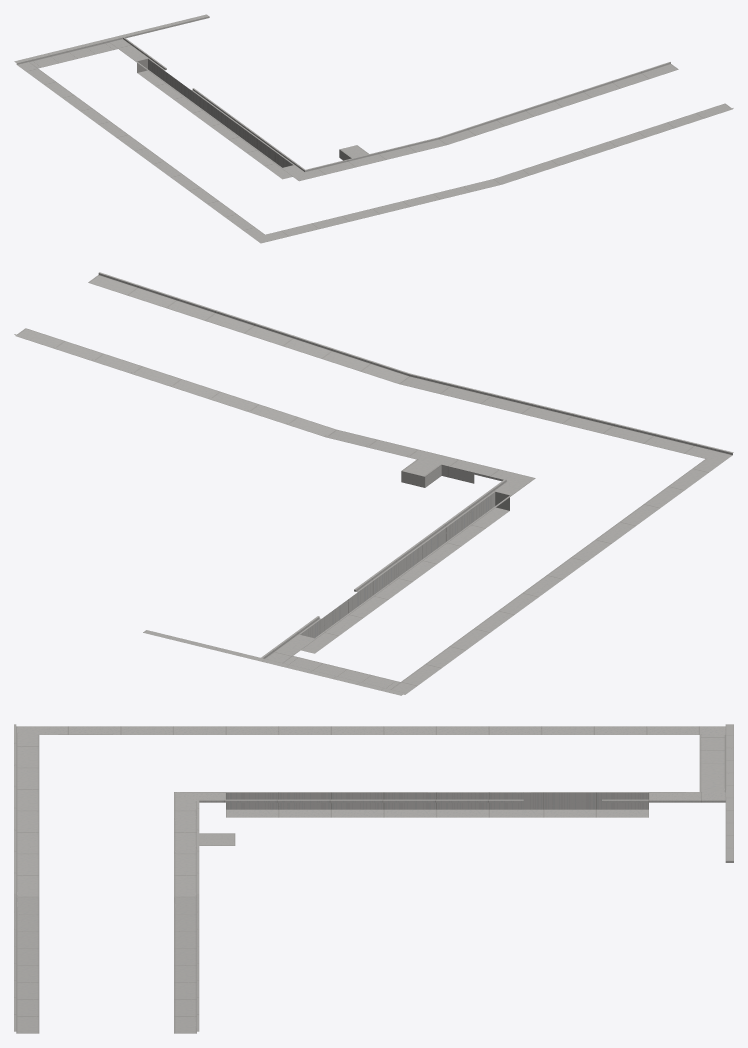
Rendered from kd_stage_135ded_1_7_bounded.glb.
The picture shows the model from 3 angles, top to bottom: view 1: azimuth 30°, elevation 25°; view 2: azimuth 150°, elevation 25°; view 3: azimuth 270°, elevation 25°; orthographic projection. The views are drawn at different scales.
Visible parts, largest first — view 1: kd_stage_135ded_1_7_bounded; view 2: kd_stage_135ded_1_7_bounded; view 3: kd_stage_135ded_1_7_bounded.
Part boxes in pixels (left/top/right/bottom): kd_stage_135ded_1_7_bounded: left=14, top=14, right=733, bottom=243; kd_stage_135ded_1_7_bounded: left=14, top=272, right=733, bottom=695; kd_stage_135ded_1_7_bounded: left=14, top=724, right=733, bottom=1033.
Bounding box in the file's own units: 17.12 × 1.11 × 15.54.
1 material, 1 textured.
